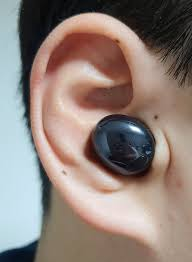earphone: (29, 12, 181, 249)
